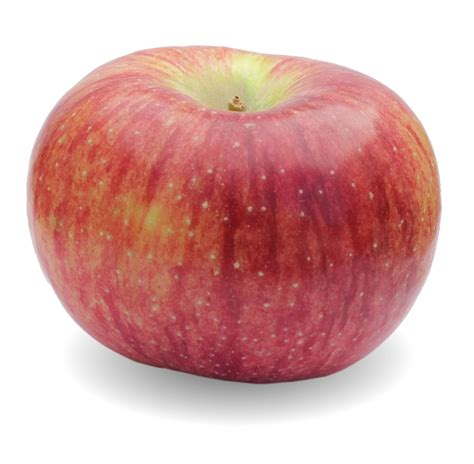apple: (22, 43, 444, 389)
